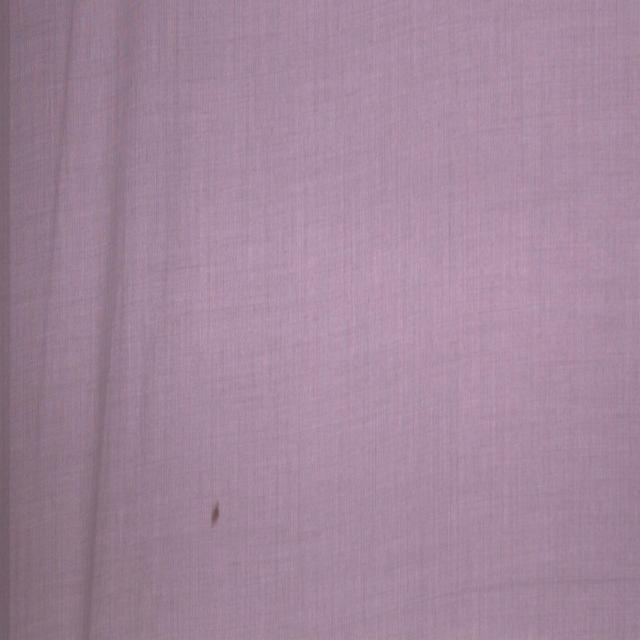dirty: (210, 504, 220, 528)
